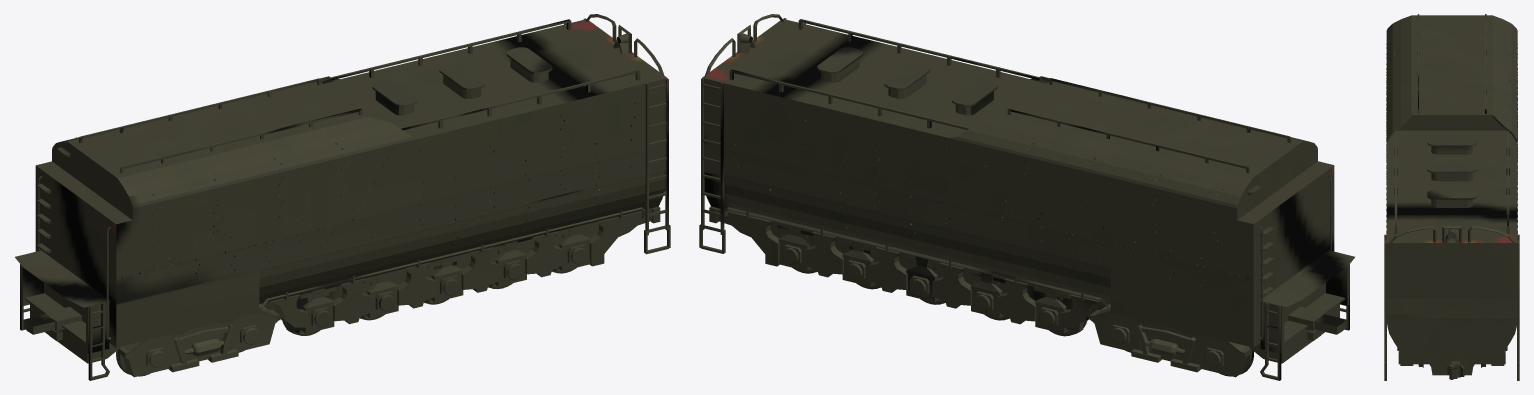
File: centipede_oil_tender_gh.obj
3 renders of one model, left to right at view 1: azimuth 30°, elevation 25°; view 2: azimuth 150°, elevation 25°; view 3: azimuth 270°, elevation 25°, orthographic. The views are drawn at different scales.
Parts seen in each view (by area): view 1: SHELL_MAIN.005, FRAME_MAIN.002, BOGEY_FRONT_MAIN.003; view 2: SHELL_MAIN.005, FRAME_MAIN.002, BOGEY_FRONT_MAIN.003; view 3: SHELL_MAIN.005, FRAME_MAIN.002.
Boxes of the visible parts, x1,y1,x2,y2 form: SHELL_MAIN.005: [15, 14, 668, 347]; FRAME_MAIN.002: [20, 176, 670, 380]; BOGEY_FRONT_MAIN.003: [117, 304, 280, 377]; SHELL_MAIN.005: [701, 14, 1354, 347]; FRAME_MAIN.002: [699, 176, 1349, 380]; BOGEY_FRONT_MAIN.003: [1089, 304, 1252, 377]; SHELL_MAIN.005: [1384, 14, 1519, 362]; FRAME_MAIN.002: [1384, 347, 1519, 380].
Bounding box in the file's own units: 14.2 × 4.69 × 3.29.
